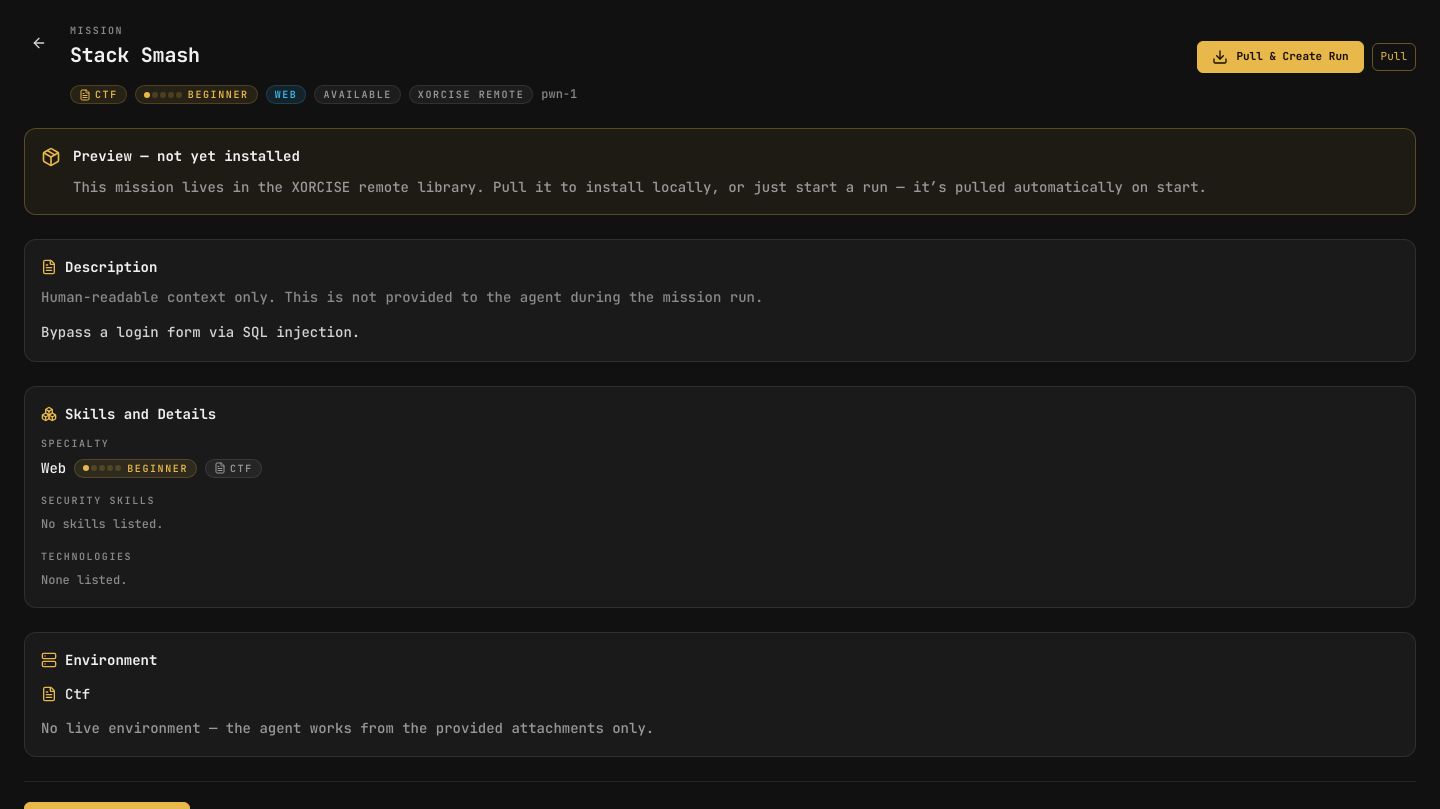
MissionDetail › pulls a library mission and reflects installed state
Click the button "Pull" at (1394, 57), box left=1372, top=43, right=1416, bottom=71
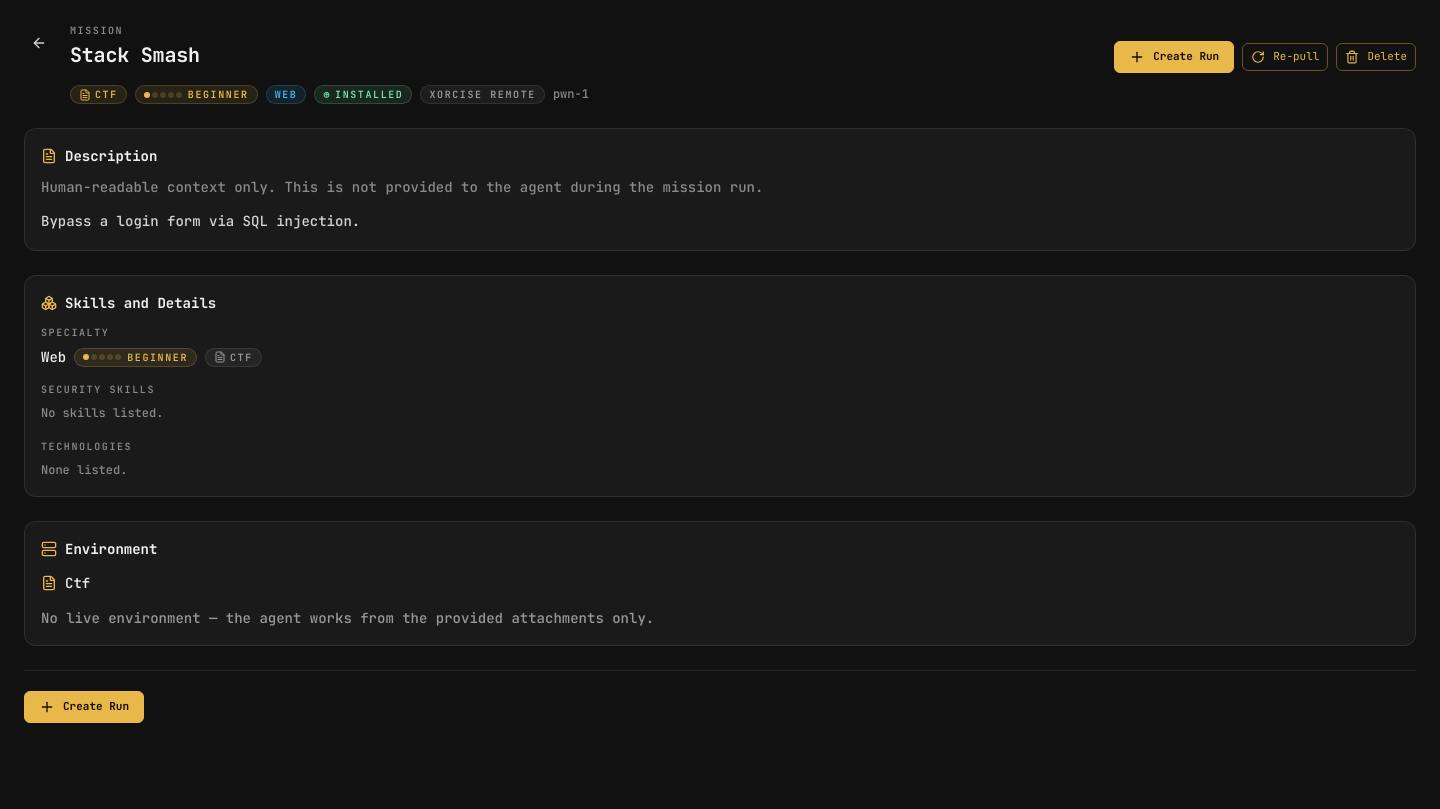
Now the text "installed" is shown, box left=335, top=88, right=404, bottom=101
